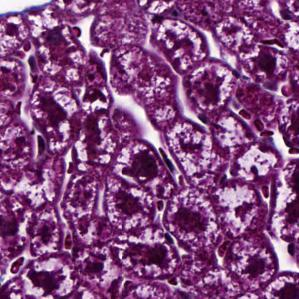inflammation: (115, 138, 166, 198), (190, 59, 235, 114)
